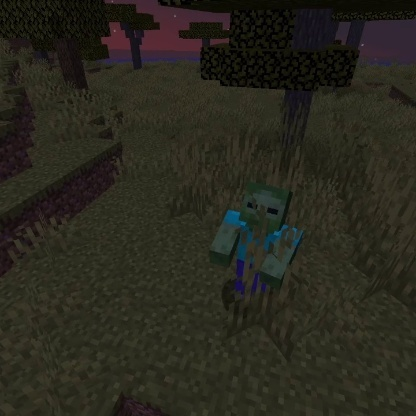zombie: (206, 177, 309, 311)
